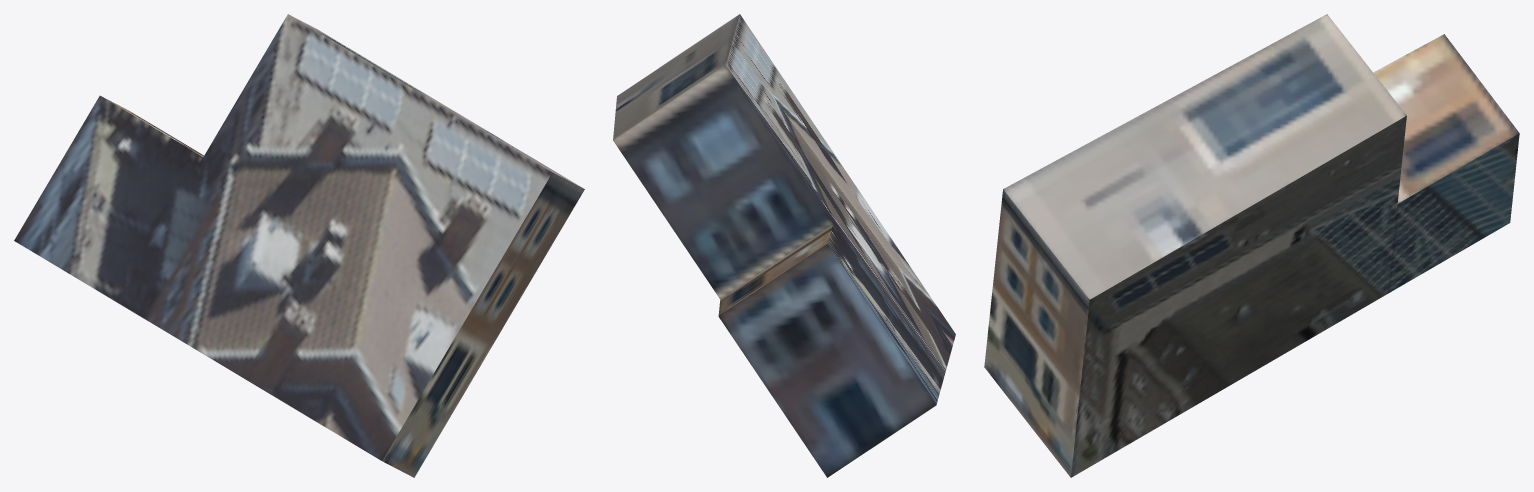
The picture shows the model from 3 angles, left to right: view 1: azimuth 30°, elevation 25°; view 2: azimuth 150°, elevation 25°; view 3: azimuth 270°, elevation 25°; orthographic projection. The views are drawn at different scales.
Parts seen in each view (by area): view 1: BAG_0599100000760342 (×2); view 2: BAG_0599100000760342 (×2); view 3: BAG_0599100000760342 (×2).
Part boxes in pixels (<box>): BAG_0599100000760342 (×2): <box>14,14,584,477</box>; BAG_0599100000760342 (×2): <box>613,14,955,477</box>; BAG_0599100000760342 (×2): <box>984,14,1519,477</box>.
Size of the model in its own units: 20.85 by 18.25 by 19.5.
1 material, 1 textured.
